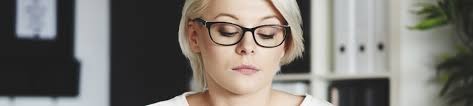g.y: (205, 19, 243, 46)
